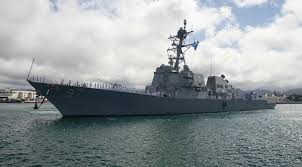tau_muctieu: (24, 32, 275, 111)
